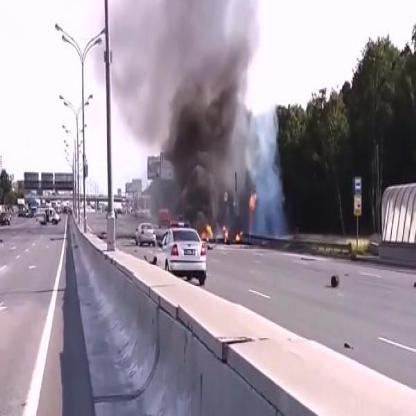fire: (222, 220, 243, 243), (200, 222, 218, 242), (247, 187, 259, 212)
